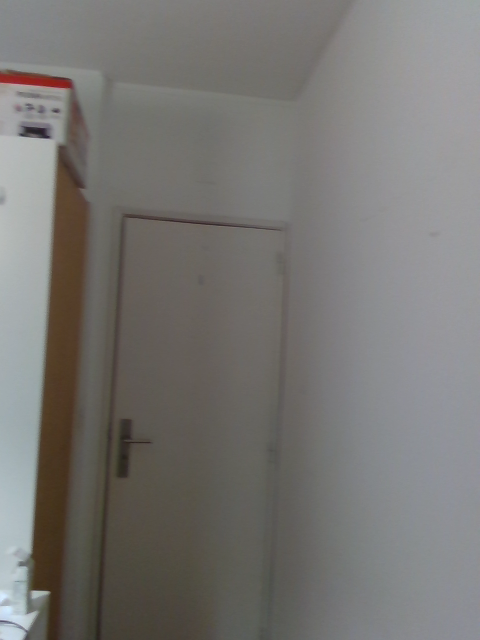closed: (85, 204, 296, 639)
